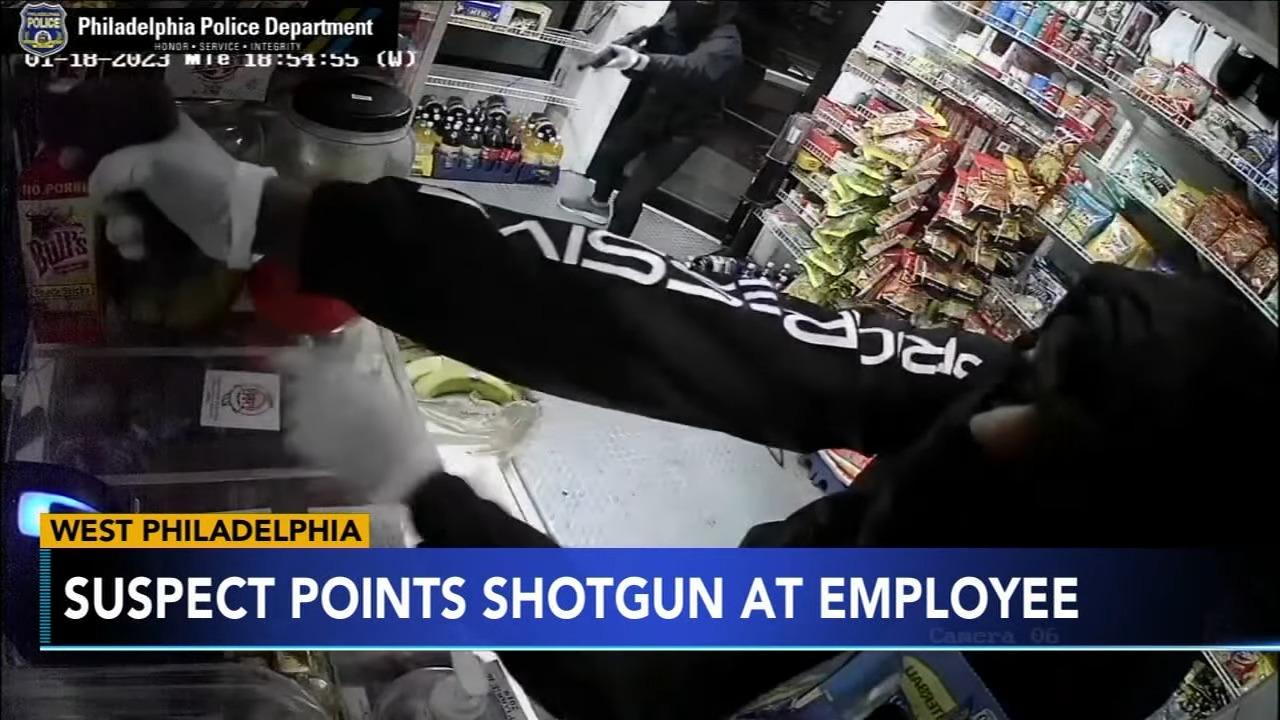pistol: (0, 48, 196, 293)
shotgun: (579, 23, 670, 78)
